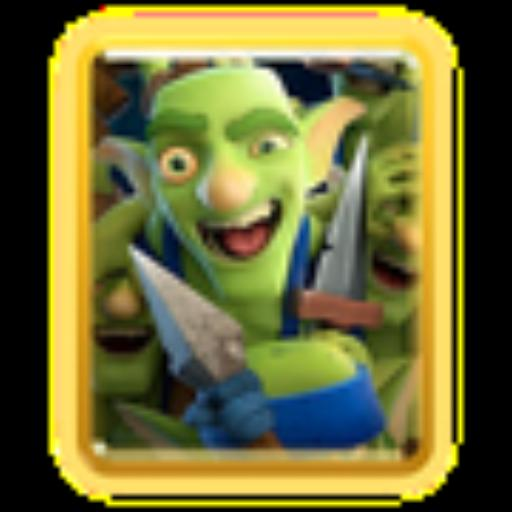goblin-gang: (100, 62, 390, 450)
